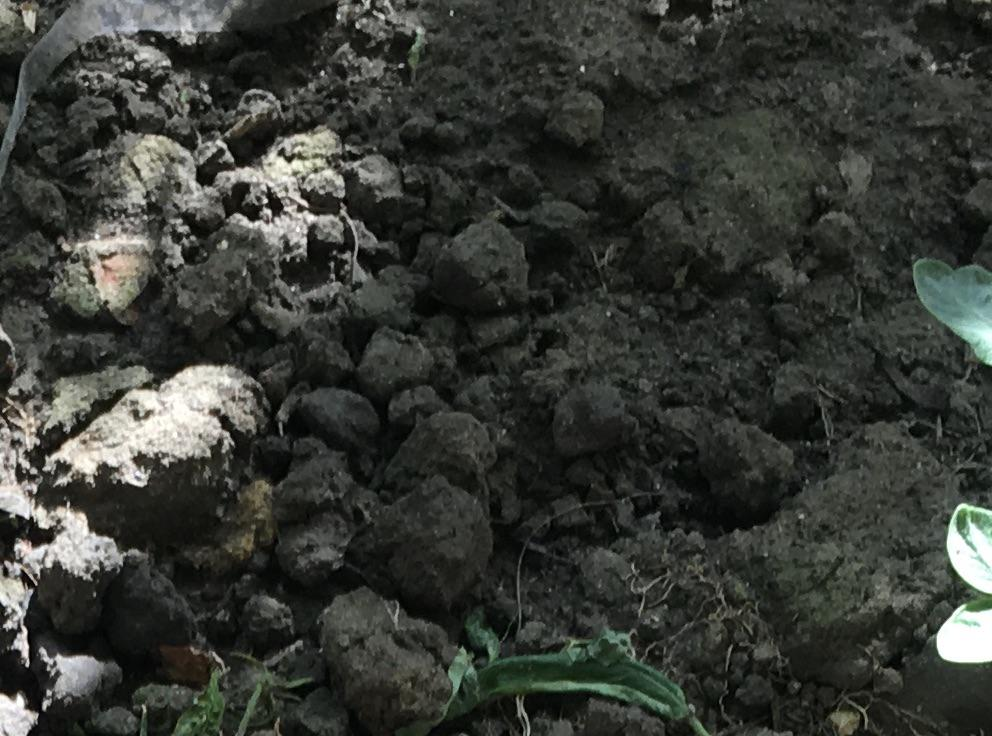block: (40, 357, 263, 523), (311, 585, 454, 732)
